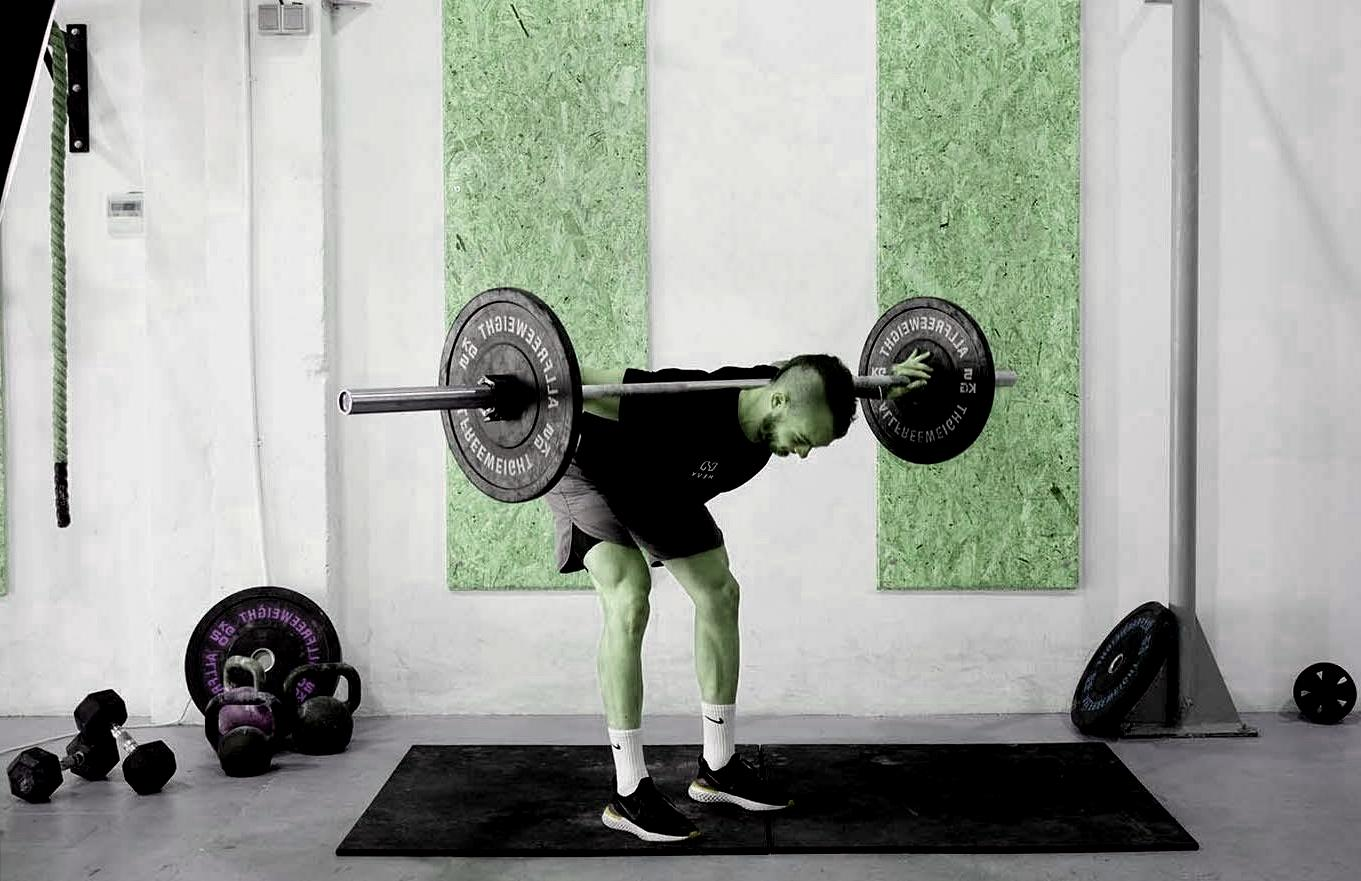Barbell: (330, 387, 356, 420)
